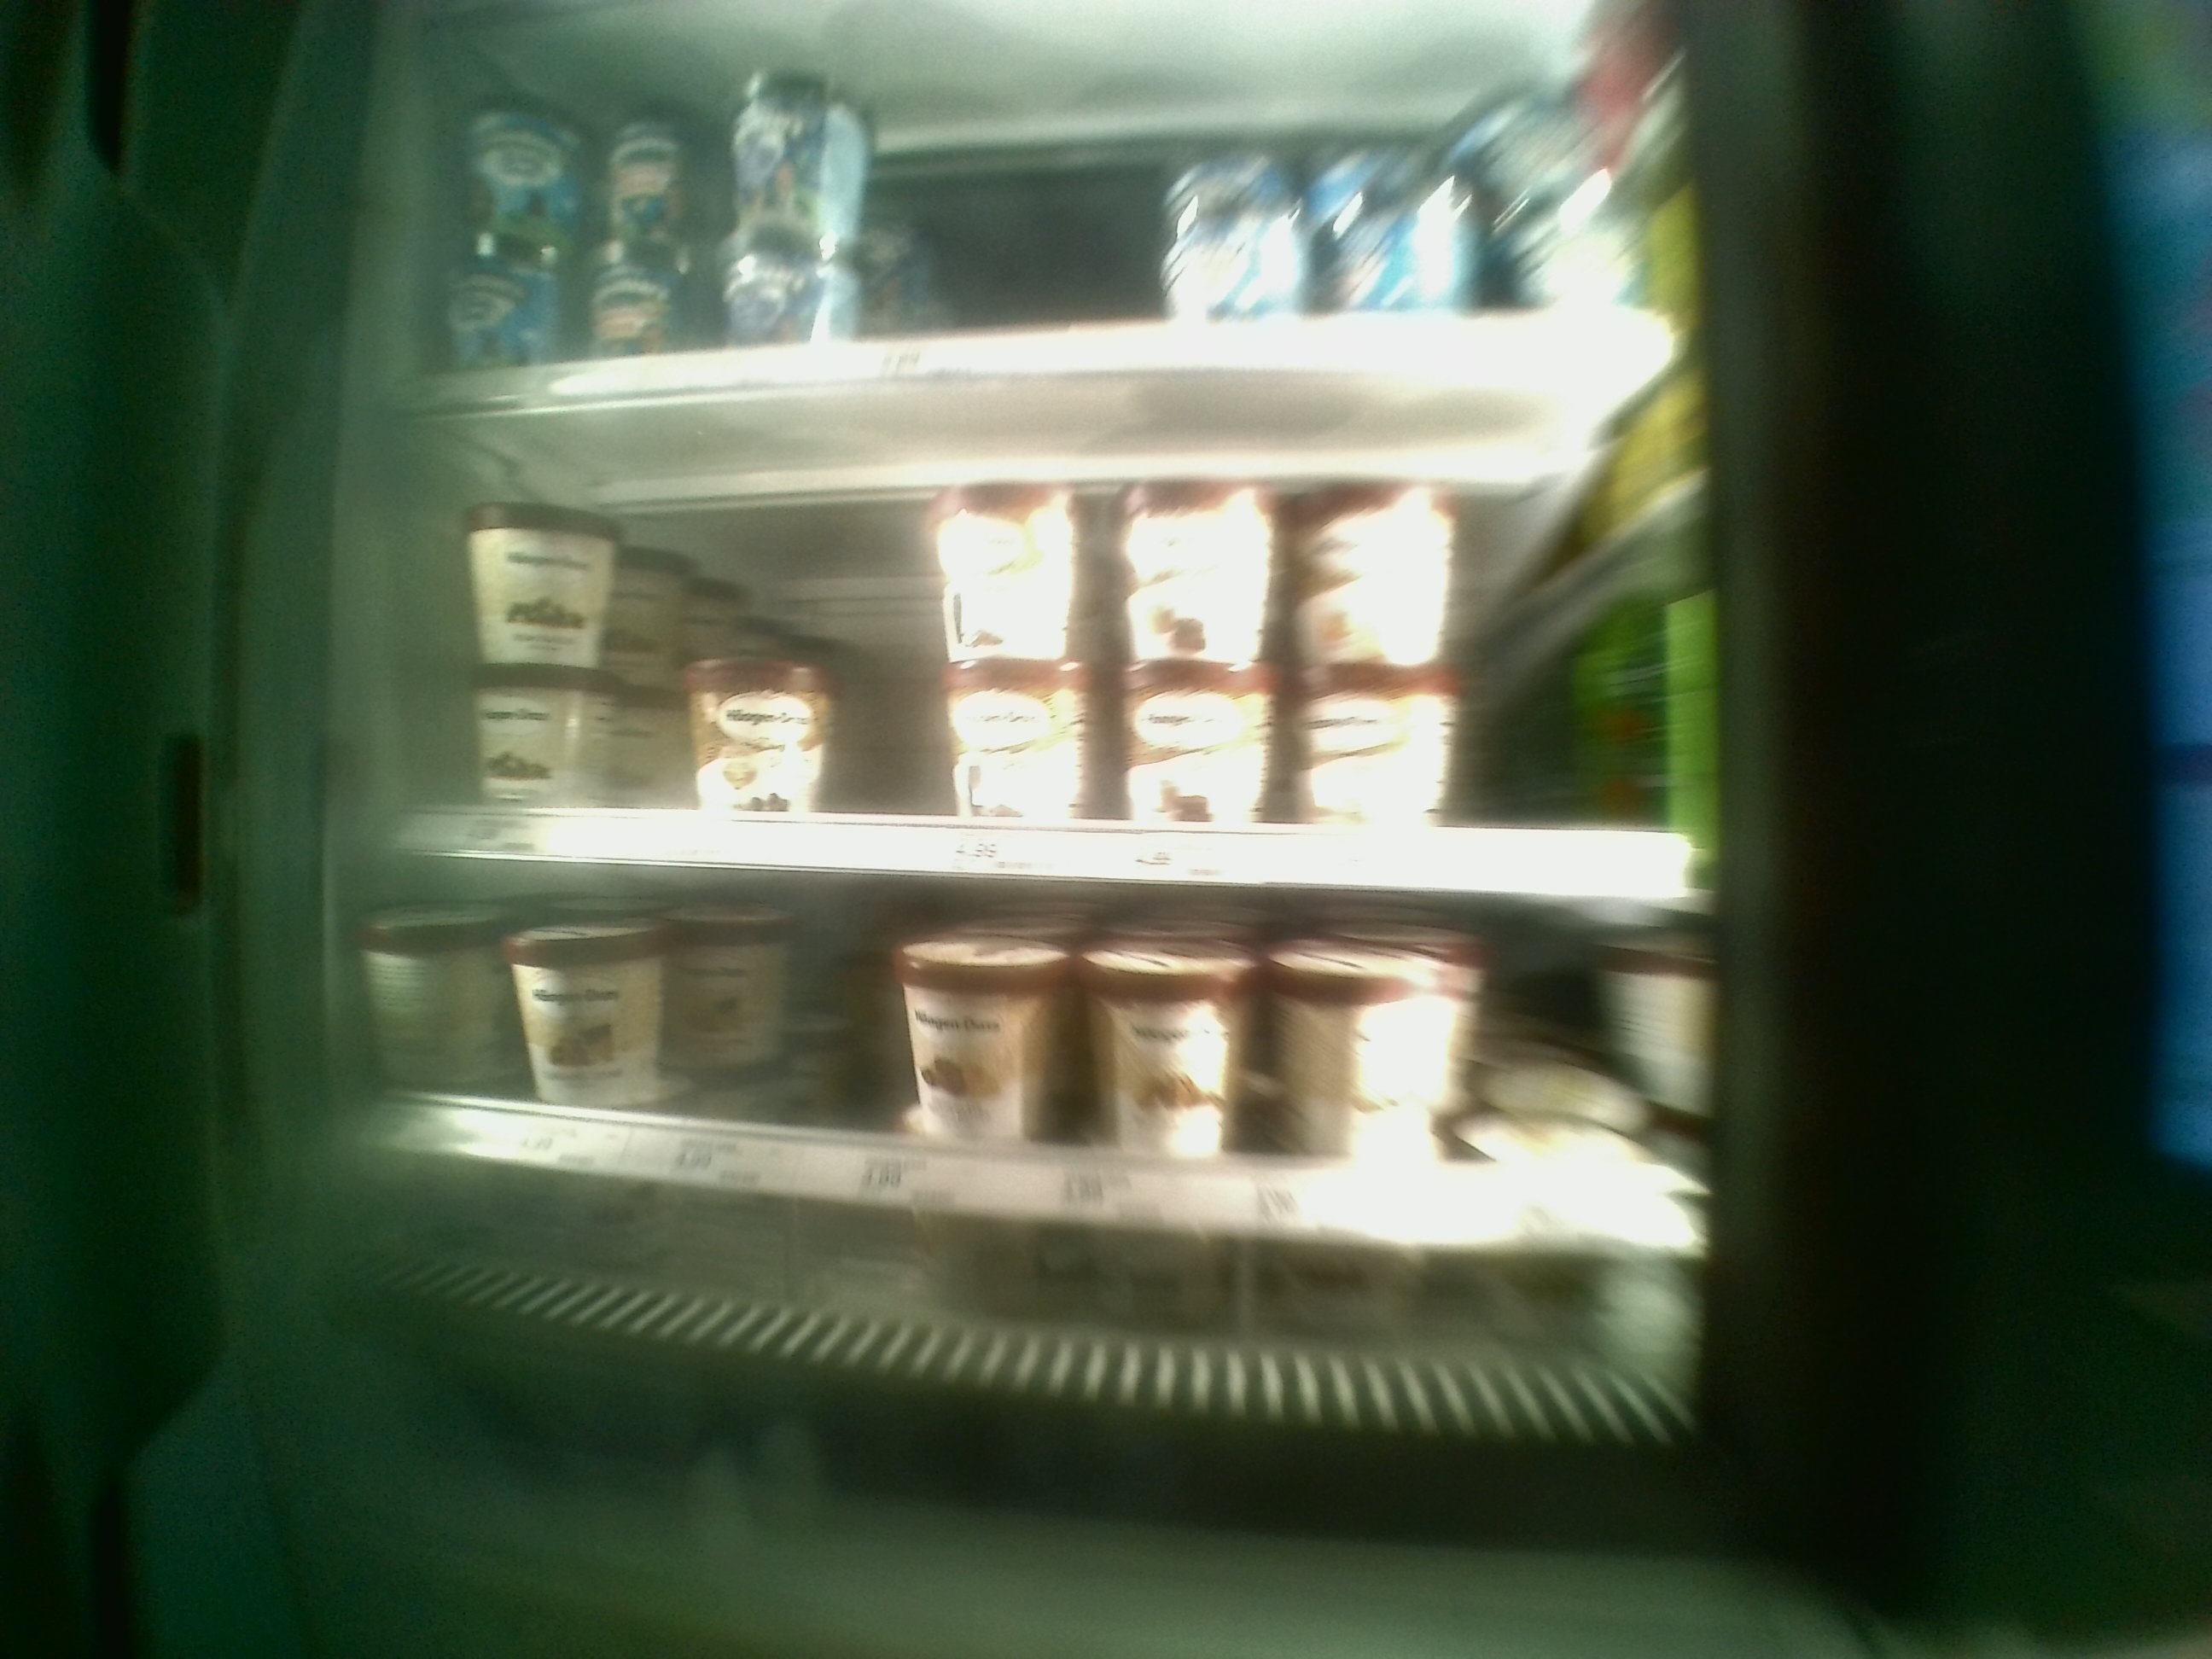shelf: (394, 864, 1716, 1385), (409, 408, 1714, 899)
